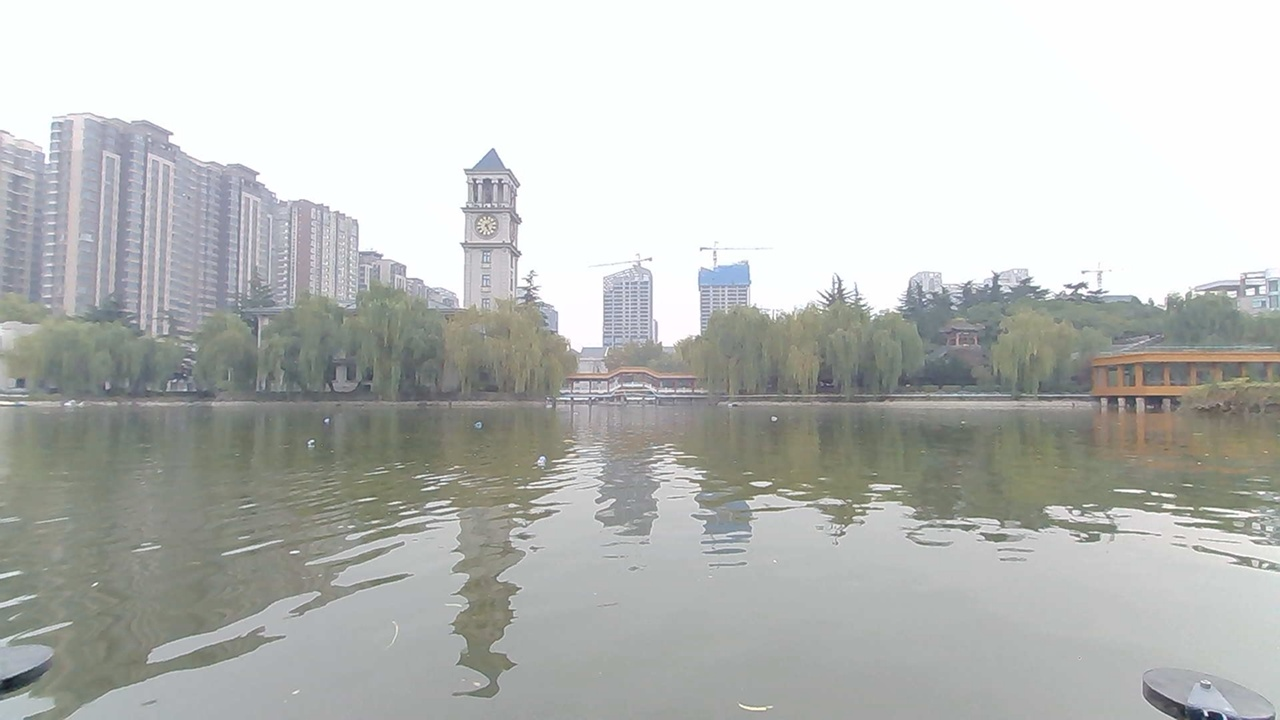bottle: (500, 443, 560, 476), (298, 429, 339, 452), (757, 406, 796, 429), (465, 409, 502, 433), (320, 406, 356, 430)
